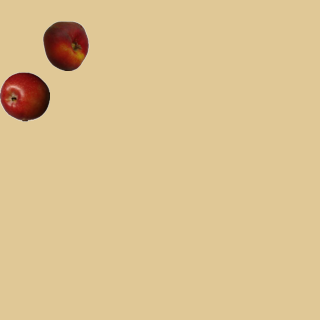Apple Braeburn: (0, 71, 49, 121)
Nectarine Flat: (40, 20, 90, 70)
